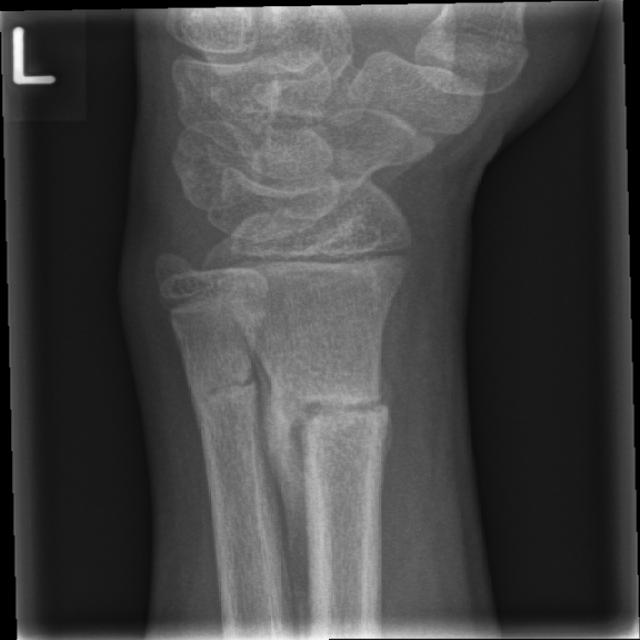radius fracture: (256, 354, 439, 550)
ulna fracture: (179, 353, 267, 483)
